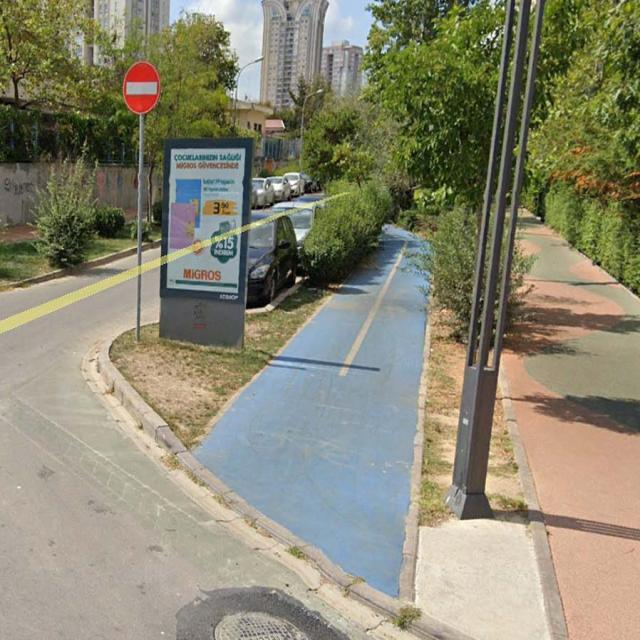girisyok: (122, 61, 160, 116)
